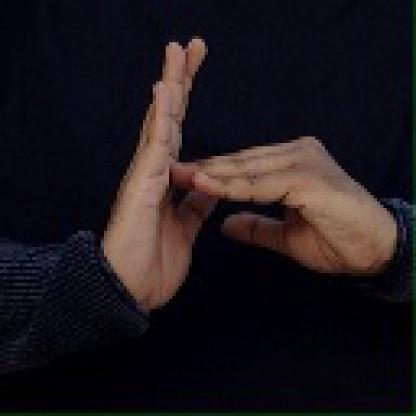Z: (100, 29, 366, 300)
